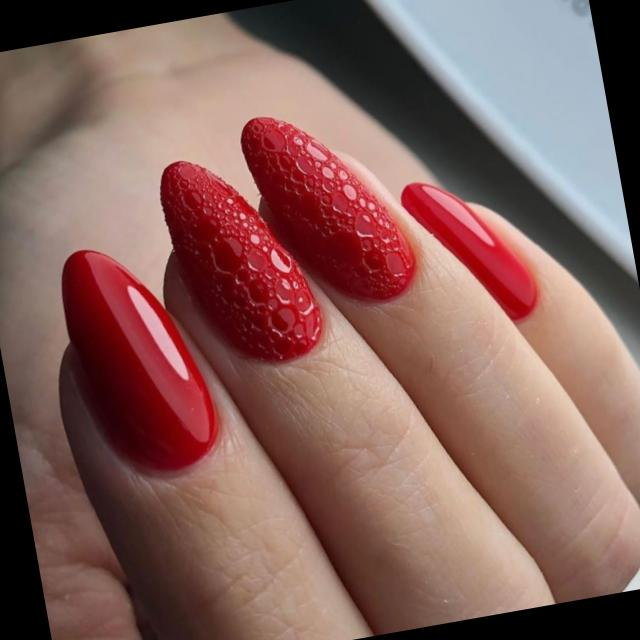Nail: (62, 250, 218, 469), (160, 161, 322, 361), (241, 117, 415, 300), (402, 182, 538, 320)
